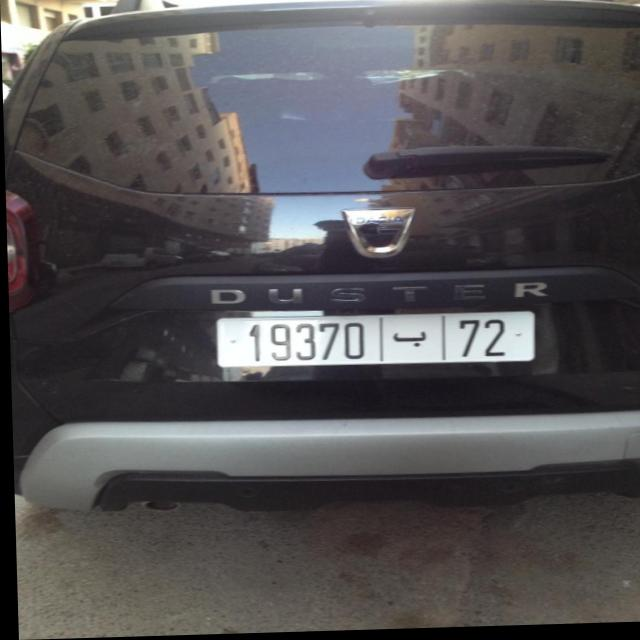License-Plate: (214, 314, 534, 369)
